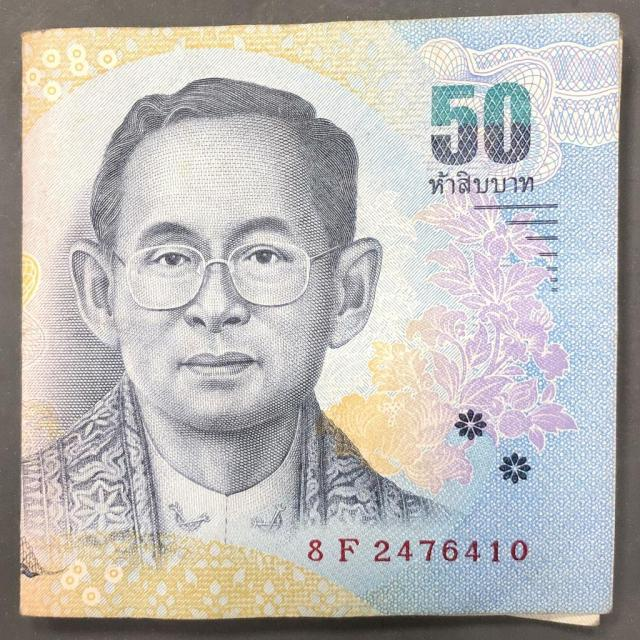THAI50: (20, 13, 622, 625)
